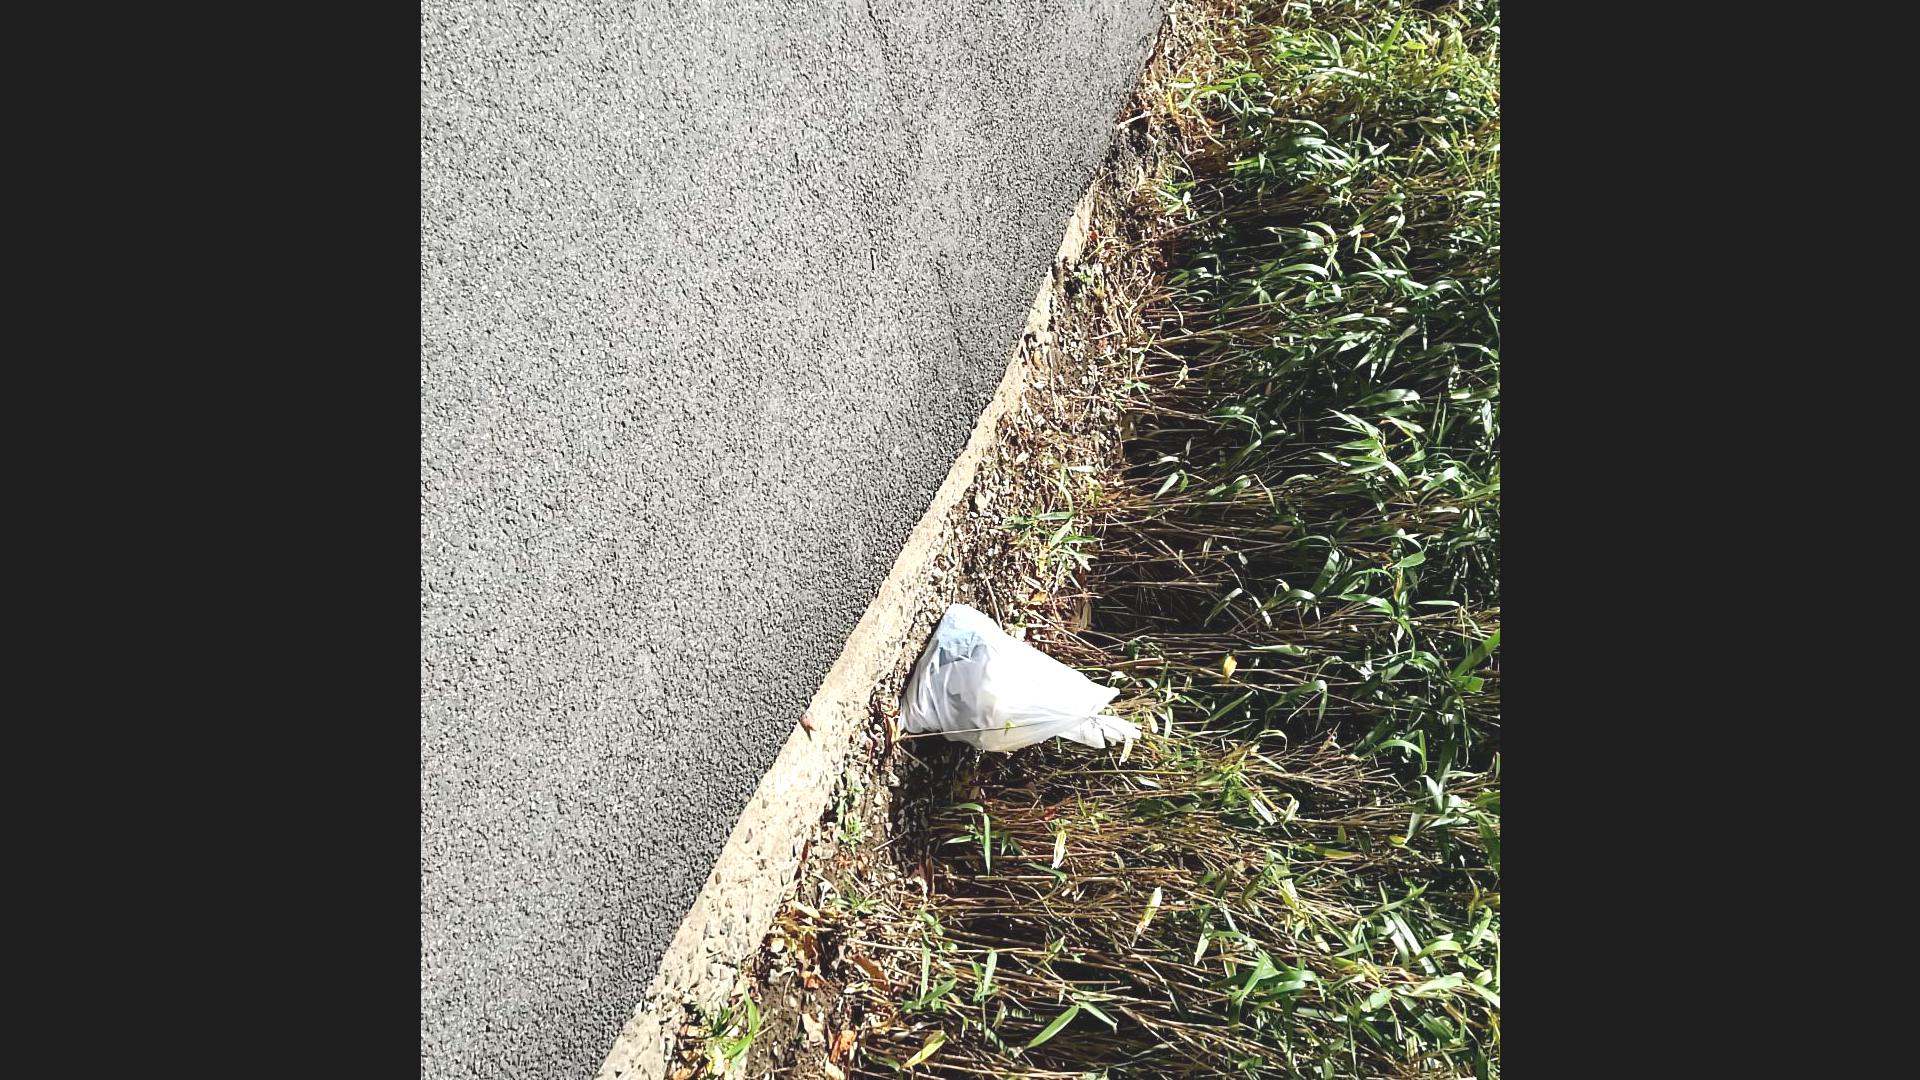white_bag: (886, 583, 1158, 775)
